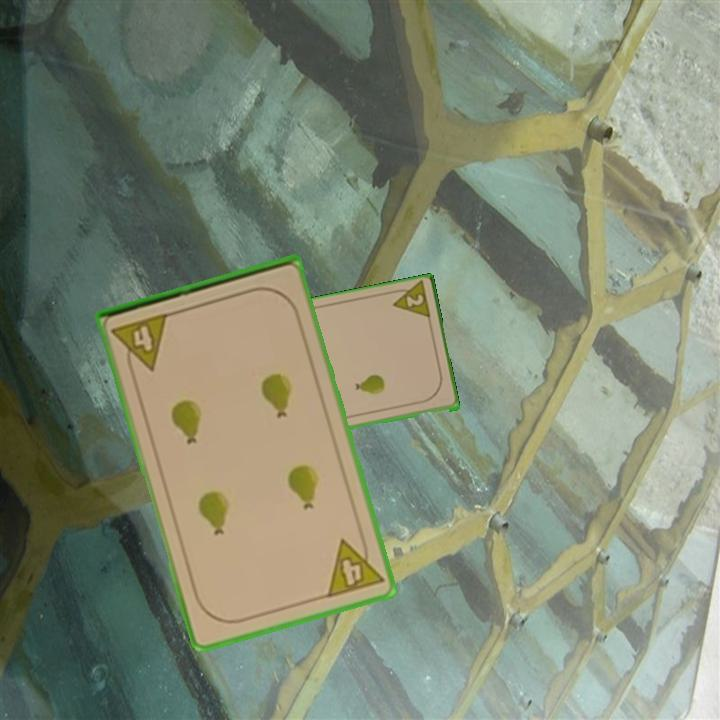2p: (385, 280, 433, 324)
4p: (323, 530, 387, 601), (108, 309, 172, 378)
